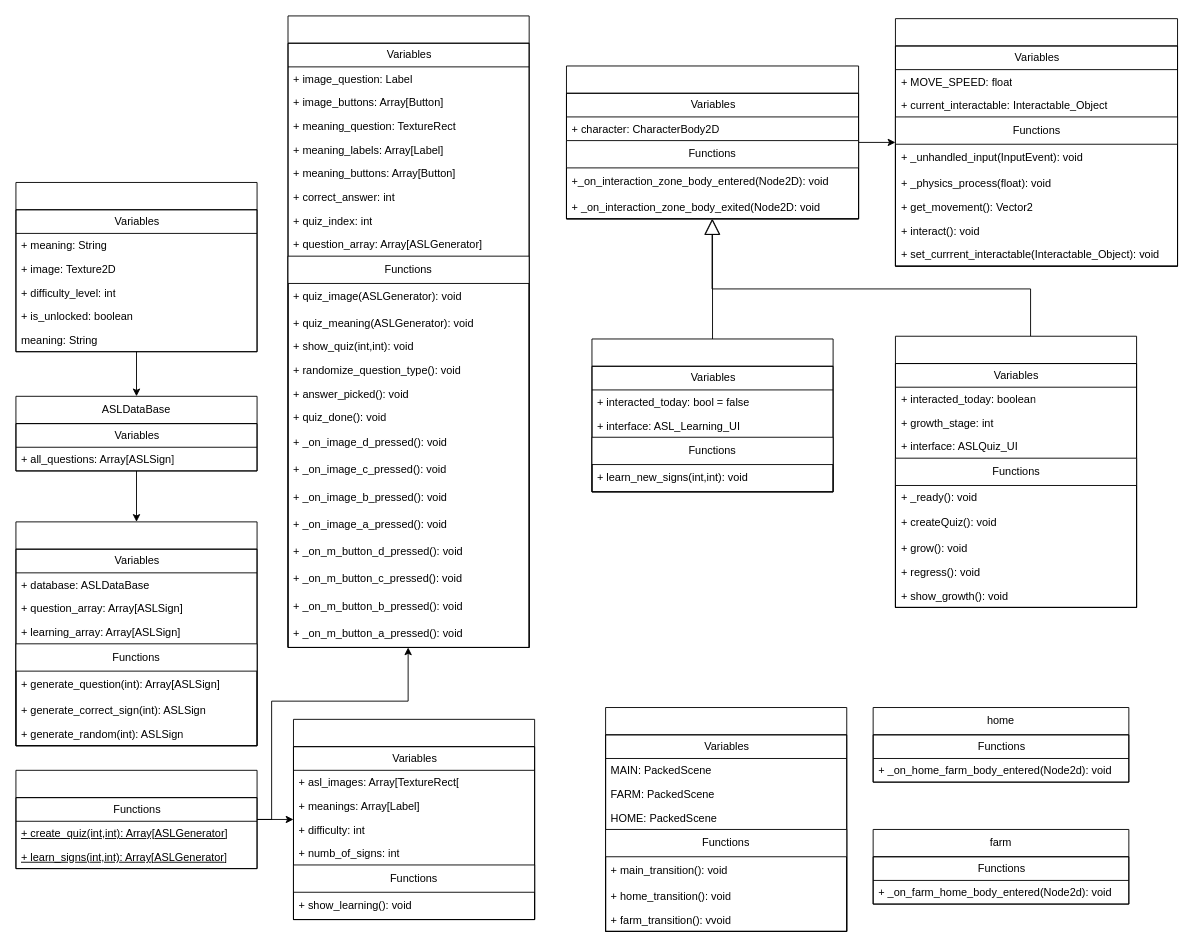
The diagram is 1194 pixels wide and 950 high, and some of its shapes have lost their labels. The box of each missing label's shape, as (x1, y1, x2, y2) in pixels:
ASL_Learning_UI: (293, 718, 535, 920)
ASL_Quiz_UI: (287, 15, 529, 647)
ASLArray_Generator: (15, 521, 257, 746)
ASLQuiz: (15, 769, 257, 869)
ASLSign: (15, 182, 257, 352)
Character: (895, 18, 1178, 266)
game_manager: (605, 707, 847, 931)
interactable_object: (566, 65, 859, 219)
NewsPaper: (591, 338, 833, 492)
tree: (895, 335, 1137, 607)
